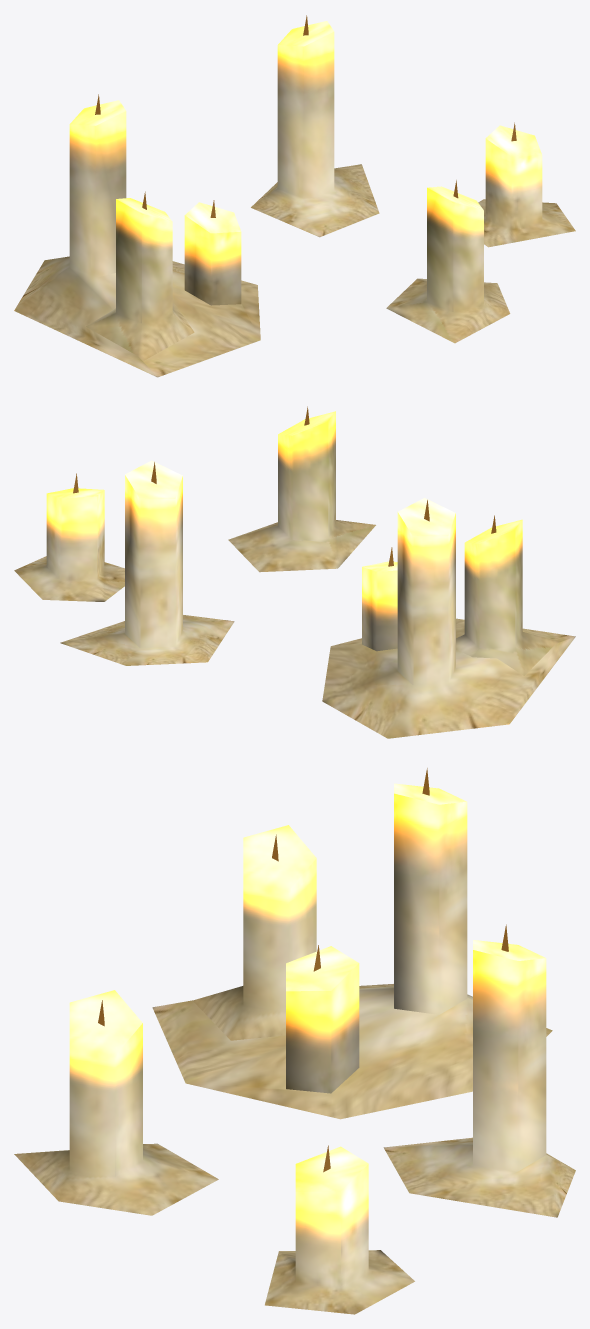
Rendered from Candle.fbx.
3 renders of one model, top to bottom at view 1: azimuth 30°, elevation 25°; view 2: azimuth 150°, elevation 25°; view 3: azimuth 270°, elevation 25°, orthographic. The views are drawn at different scales.
Visible parts, largest first — view 1: Candle_02; view 2: Candle_02; view 3: Candle_02.
Boxes of the visible parts, box(x1,y1,x2,y2) form: Candle_02: box(14, 15, 575, 377); Candle_02: box(14, 406, 575, 738); Candle_02: box(14, 768, 575, 1314).
Bounding box in the file's own units: 0.3091 × 0.1143 × 0.217.
